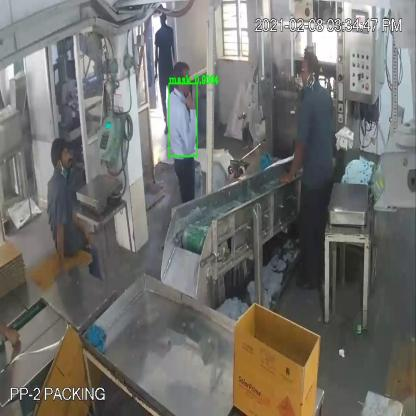no_glove: (280, 132, 311, 193), (51, 204, 74, 276), (70, 199, 97, 258), (1, 306, 29, 359)
